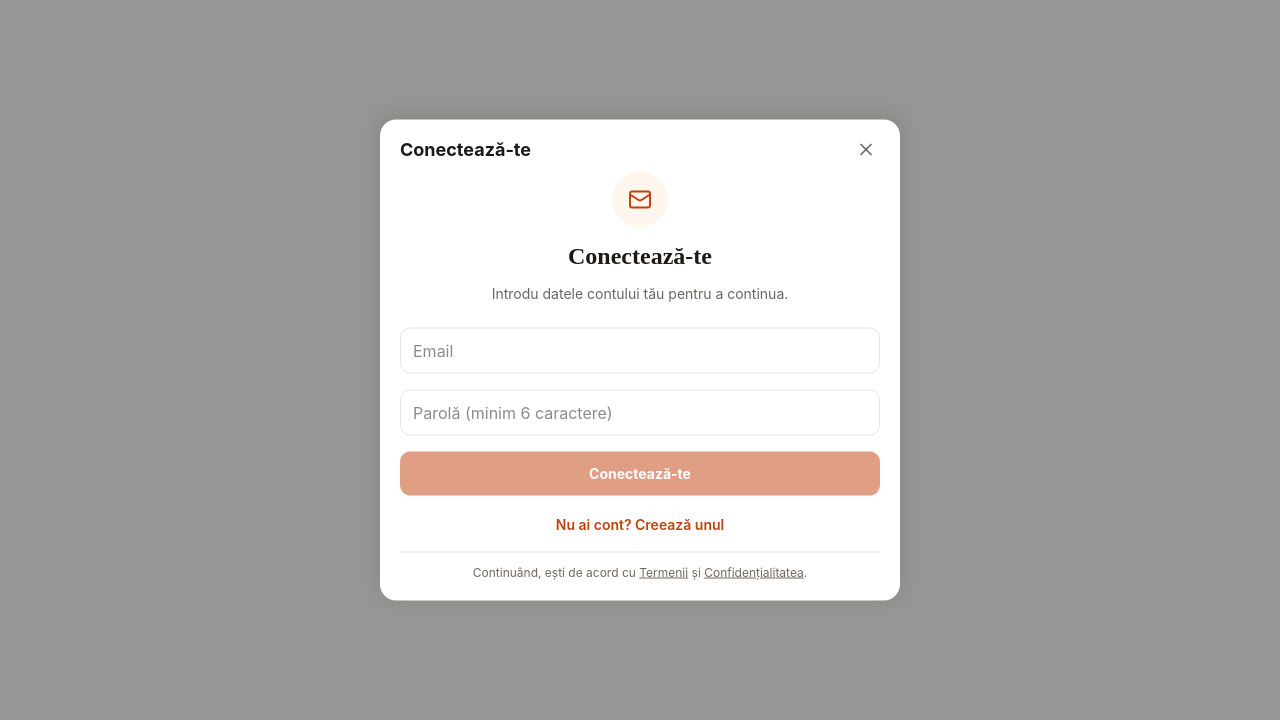
Test case: AuthSheet › shows the error message when sign-in fails
Step 1. Type "ana@test.com" into the field labelled "Email" → (640, 350), box [400,328,880,374]
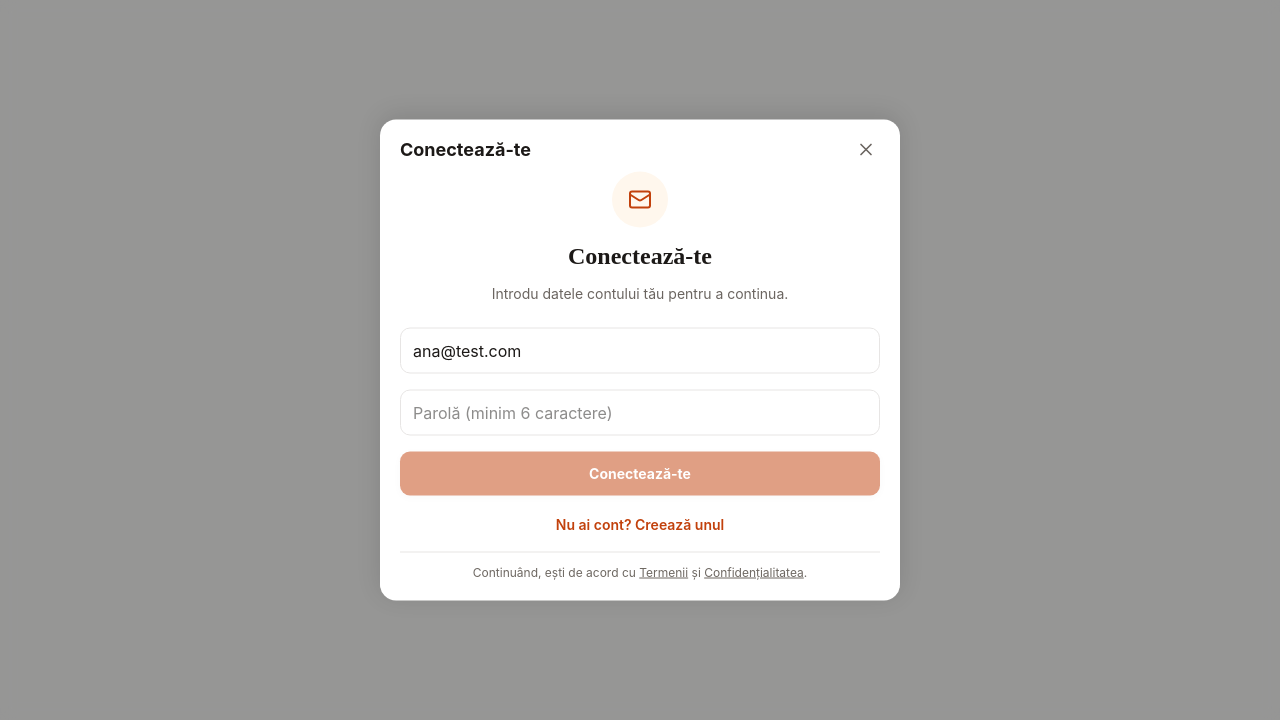
Step 2. Type "wrong123" into the password field labelled "Parolă" → (640, 412), box [400,390,880,436]
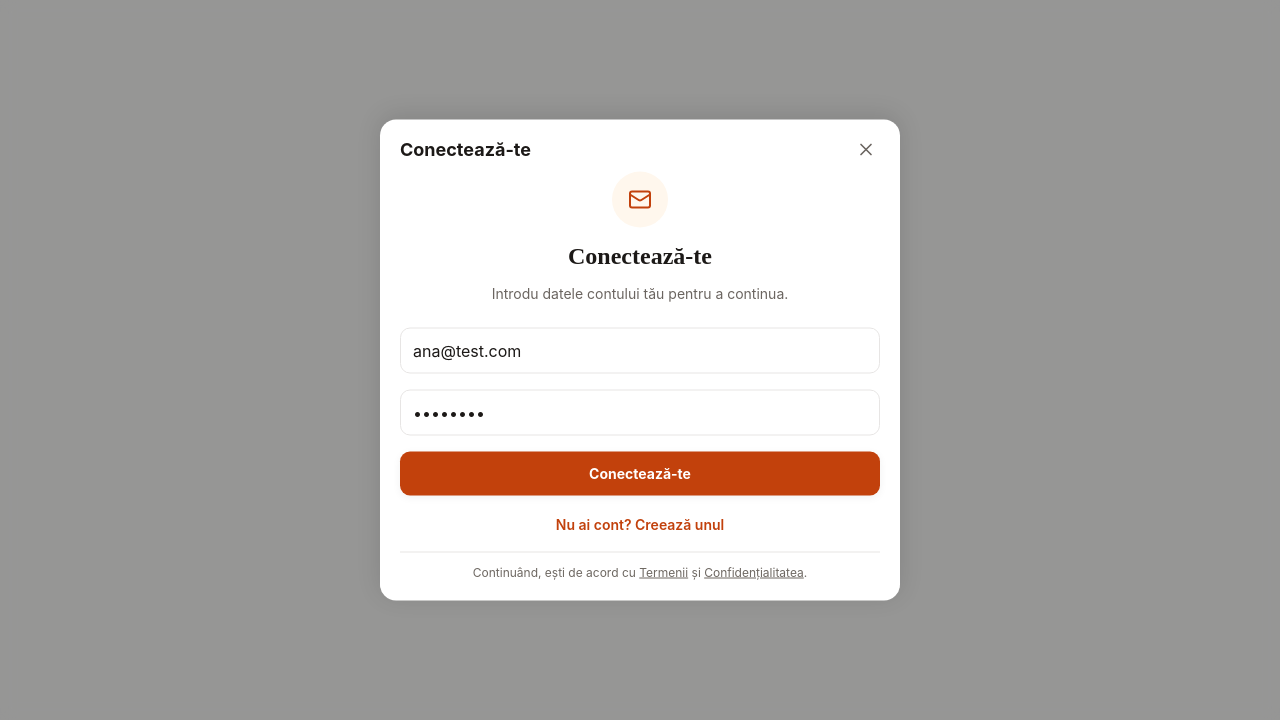
Step 3. Click the button "Conectează-te" → (640, 474), box [400,452,880,496]
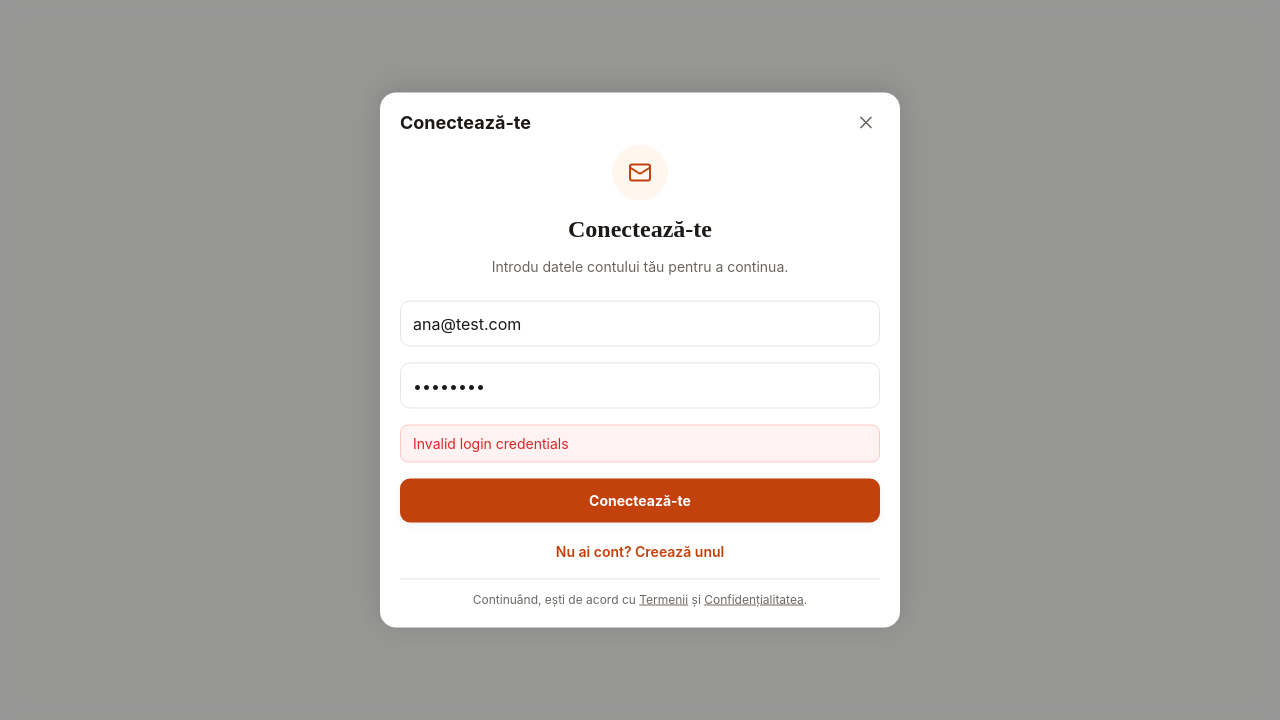
Now the message reads "Invalid login credentials", box [413,434,569,452]
